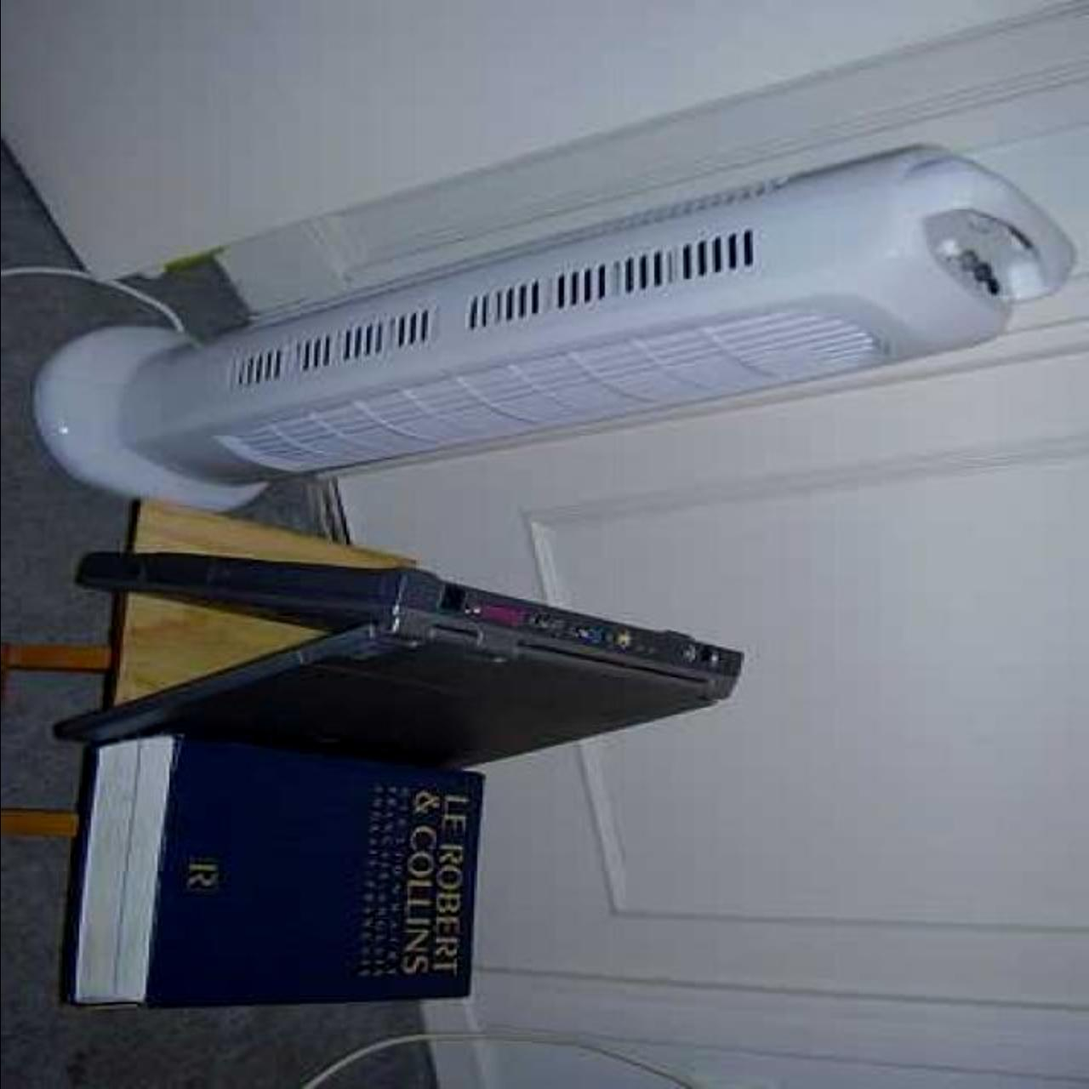laptop: (69, 519, 710, 771)
